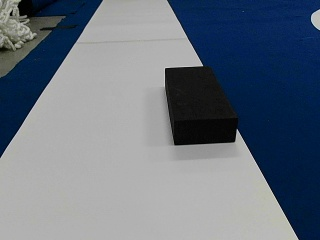block: (166, 66, 235, 143)
